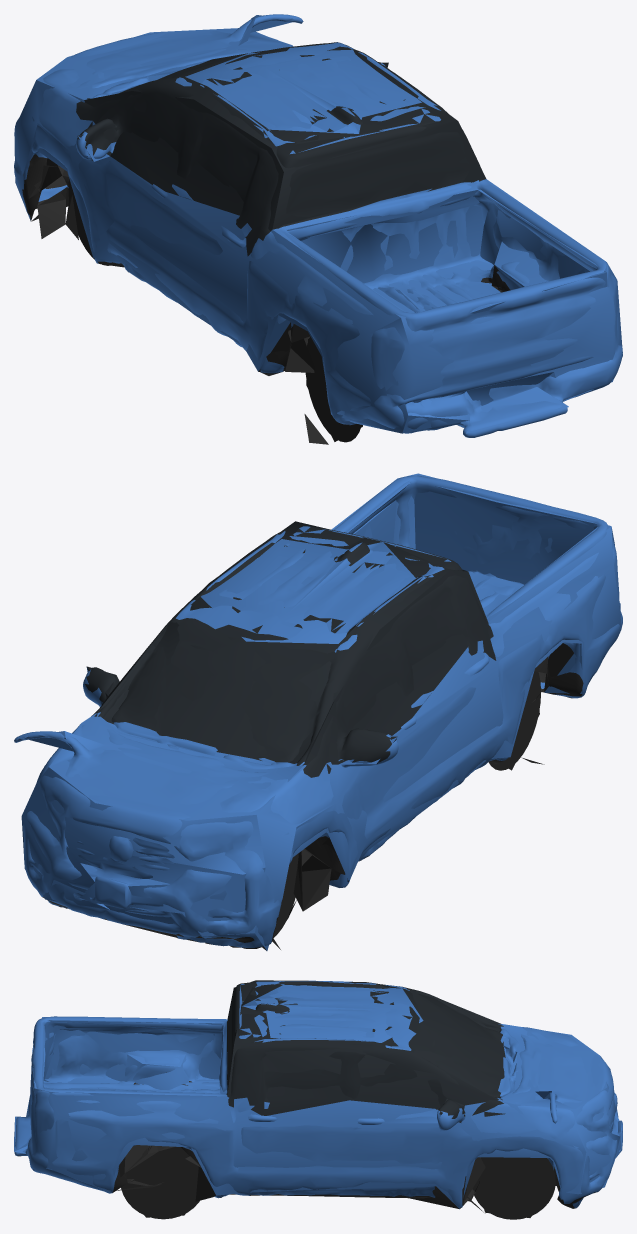
Rendered from honda-ridgeline.glb.
3 views of the same model, one above another, from view 1: azimuth 30°, elevation 25°; view 2: azimuth 150°, elevation 25°; view 3: azimuth 270°, elevation 25° (orthographic). The views are drawn at different scales.
Parts seen in each view (by area): view 1: body, far; view 2: body, far; view 3: body, far.
Part boxes in pixels (x1,y1,x2,y2): body: (14, 14, 622, 444); far: (15, 15, 622, 441); body: (14, 475, 622, 949); far: (21, 473, 621, 950); body: (14, 980, 622, 1219); far: (14, 980, 622, 1217).
Size of the model in its own units: 2.34 by 1.84 by 5.39.
